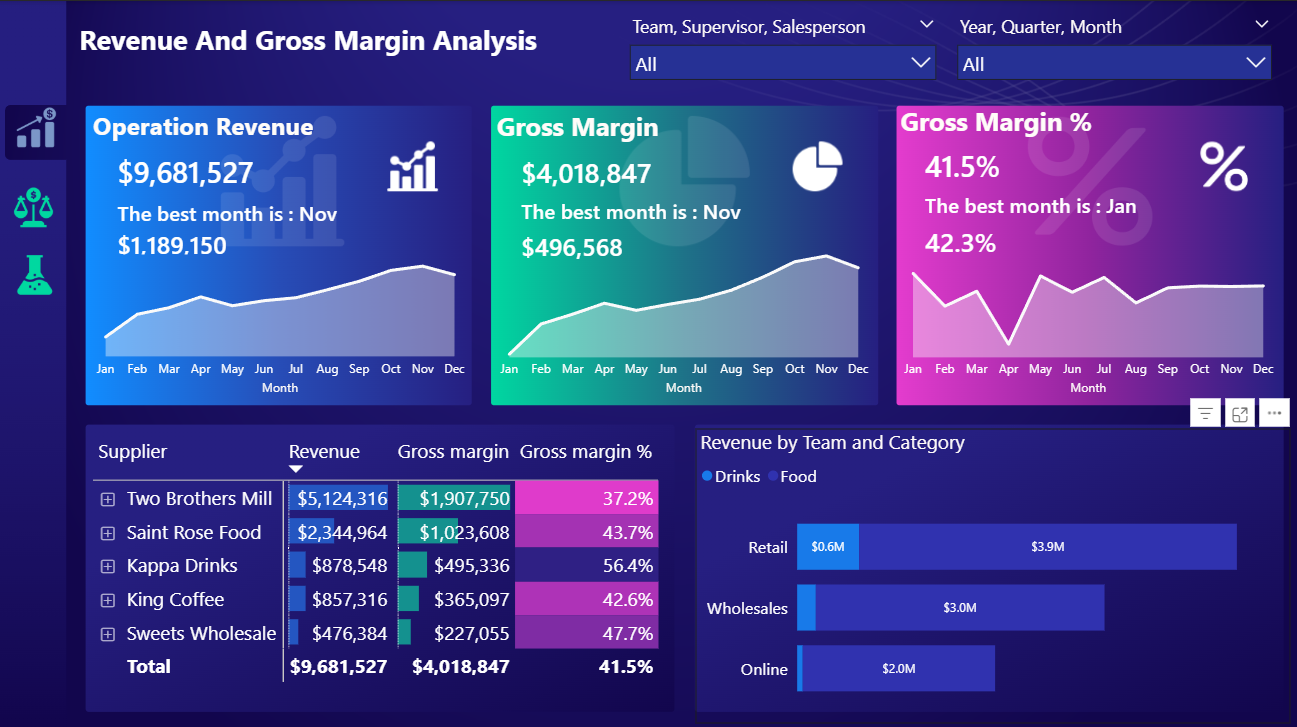

The page's visual inventory and layout, read from the dashboard file:
{"tool":"powerbi","page":{"name":"Revenue and Gross margin","canvas":[1280,720],"ordinal":0},"visuals":[{"type":"cardVisual","title":"Operation Revenue","fields":{"Data":["Key_measure.Revenue"]},"box":[88.3,105.5,255.2,94.5],"z":0},{"type":"areaChart","fields":{"Category":["dcalendar.Month"],"Y":["Key_measure.Revenue"]},"box":[87.8,223.7,377.4,168.8],"z":1000},{"type":"cardVisual","title":"Operation Revenue","fields":{"Data":["Key_measure.best month","Key_measure.Revenue"]},"box":[88.3,177.9,279.8,89.6],"z":2000},{"type":"cardVisual","title":"Gross Margin","fields":{"Data":["Key_measure.Gross margim"]},"box":[484.7,105.5,249.1,94.5],"z":3000},{"type":"areaChart","fields":{"Category":["dcalendar.Month"],"Y":["Key_measure.Gross margin"]},"box":[484.4,236,377.4,156.4],"z":4000},{"type":"cardVisual","title":"Operation Revenue","fields":{"Data":["Key_measure.best month","Key_measure.Gross margin"]},"box":[484.4,172.9,279.9,98.8],"z":5000},{"type":"cardVisual","title":"Gross Margin %","fields":{"Data":["Key_measure.Gross margin %"]},"box":[881,100.6,250.3,90.8],"z":6000},{"type":"areaChart","fields":{"Category":["dcalendar.Month"],"Y":["Key_measure.Gross margin %"]},"box":[881,236,378.7,156.4],"z":7000},{"type":"cardVisual","title":"Operation Revenue","fields":{"Data":["Key_measure.best month","Key_measure.Gross margin %"]},"box":[881,167.4,279.9,100.2],"z":8000},{"type":"pivotTable","fields":{"Rows":["dProduct.Supplier","dProduct.Group"],"Values":["Key_measure.Revenue","Key_measure.Gross margin","Key_measure.Gross margin %"]},"box":[87.8,419.9,585.9,281.3],"z":9000},{"type":"barChart","fields":{"Category":["dsalesperson.Team"],"Y":["Key_measure.Revenue"],"Series":["dProduct.Category"]},"box":[684.7,419.6,584.1,289.6],"z":10000},{"type":"slicer","fields":{"Values":["dcalendar.Date.Variation.Date Hierarchy.Year","dcalendar.Date.Variation.Date Hierarchy.Quarter","dcalendar.Date.Variation.Date Hierarchy.Month"]},"box":[931.3,8.6,328.8,83.4],"z":11000},{"type":"slicer","fields":{"Values":["dsalesperson.Team","dsalesperson.Supervisor","dsalesperson.Salesperson"]},"box":[609.8,8.6,321.5,83.4],"z":12000},{"type":"textbox","box":[74.8,14.7,509.2,71.2],"z":13000},{"type":"image","box":[0,94.5,74.8,58.9],"z":14000},{"type":"image","box":[2.5,173,65,58.9],"z":15000},{"type":"image","box":[3.7,239.3,65,58.9],"z":16000}]}

Visuals, with their boxes in screenshot pixels (x1, y1, x2, y2), scaled from the page's 1280x720 canvas onto the 1297x727 screenshot:
"Operation Revenue" cardVisual: select_region(89, 107, 348, 202)
areaChart - dcalendar.Month x Key_measure.Revenue: select_region(89, 226, 471, 396)
"Operation Revenue" cardVisual: select_region(89, 180, 373, 270)
"Gross Margin" cardVisual: select_region(491, 107, 744, 202)
areaChart - dcalendar.Month x Key_measure.Gross margin: select_region(491, 238, 873, 396)
"Operation Revenue" cardVisual: select_region(491, 175, 774, 274)
"Gross Margin %" cardVisual: select_region(893, 102, 1146, 193)
areaChart - dcalendar.Month x Key_measure.Gross margin %: select_region(893, 238, 1276, 396)
"Operation Revenue" cardVisual: select_region(893, 169, 1176, 270)
pivotTable - dProduct.Supplier x dProduct.Group: select_region(89, 424, 683, 708)
barChart - dsalesperson.Team x Key_measure.Revenue: select_region(694, 424, 1286, 716)
slicer - dcalendar.Date.Variation.Date Hierarchy.Year x dcalendar.Date.Variation.Date Hierarchy.Quarter: select_region(944, 9, 1277, 93)
slicer - dsalesperson.Team x dsalesperson.Supervisor: select_region(618, 9, 944, 93)
textbox: select_region(76, 15, 592, 87)
image: select_region(0, 95, 76, 155)
image: select_region(3, 175, 68, 234)
image: select_region(4, 242, 70, 301)
